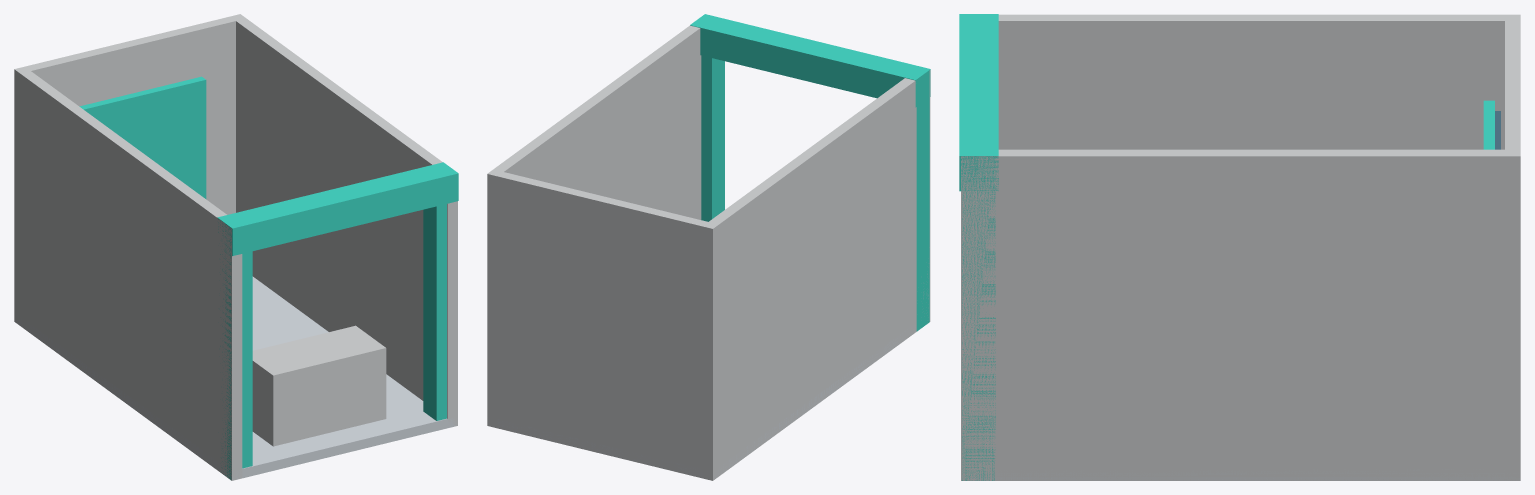
The picture shows the model from 3 angles, left to right: view 1: azimuth 30°, elevation 25°; view 2: azimuth 150°, elevation 25°; view 3: azimuth 270°, elevation 25°; orthographic projection. The views are drawn at different scales.
Visible parts, largest first — view 1: Exhibition Booth Concept; view 2: Exhibition Booth Concept; view 3: Exhibition Booth Concept.
Boxes of the visible parts, x1,y1,x2,y2 form: Exhibition Booth Concept: (14, 14, 458, 480); Exhibition Booth Concept: (487, 14, 930, 480); Exhibition Booth Concept: (959, 14, 1520, 480).
Bounding box in the file's own units: 3 × 3.2 × 5.02.
